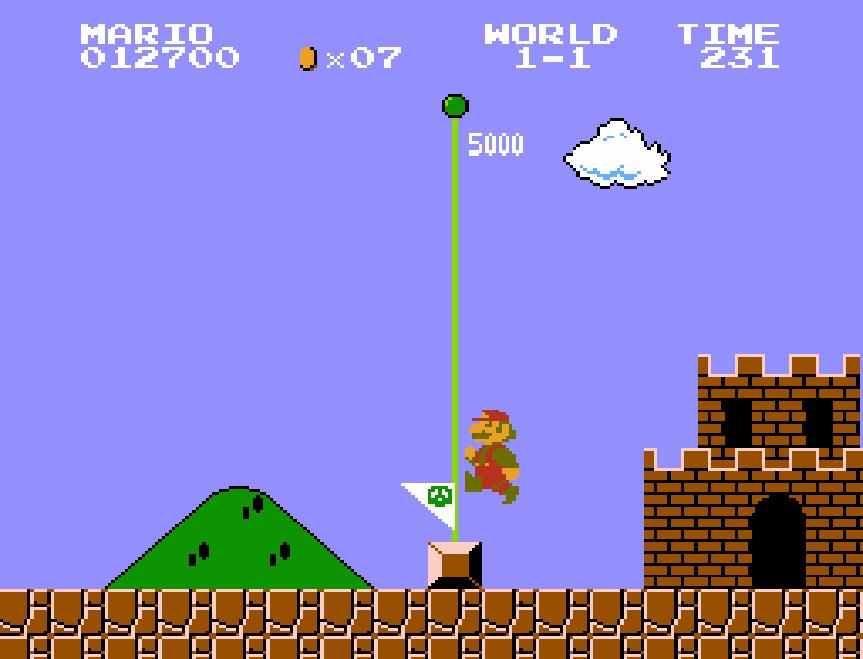big_mario: (463, 408, 522, 506)
